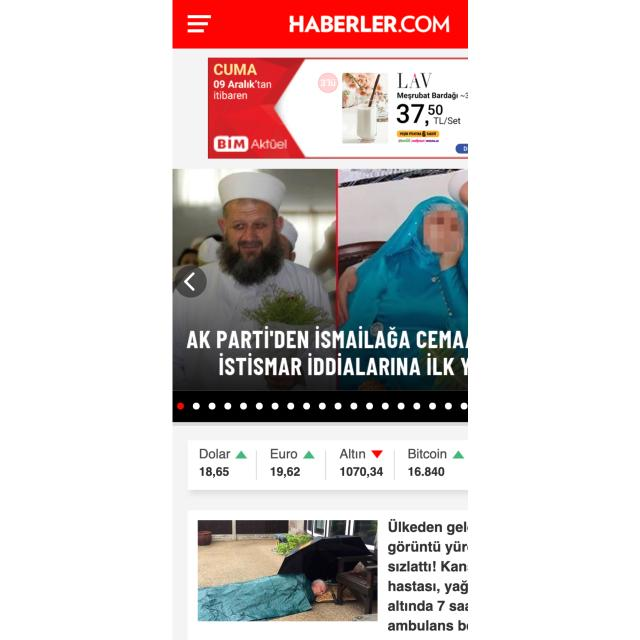logo: (288, 12, 454, 38)
navigation: (185, 10, 214, 35)
